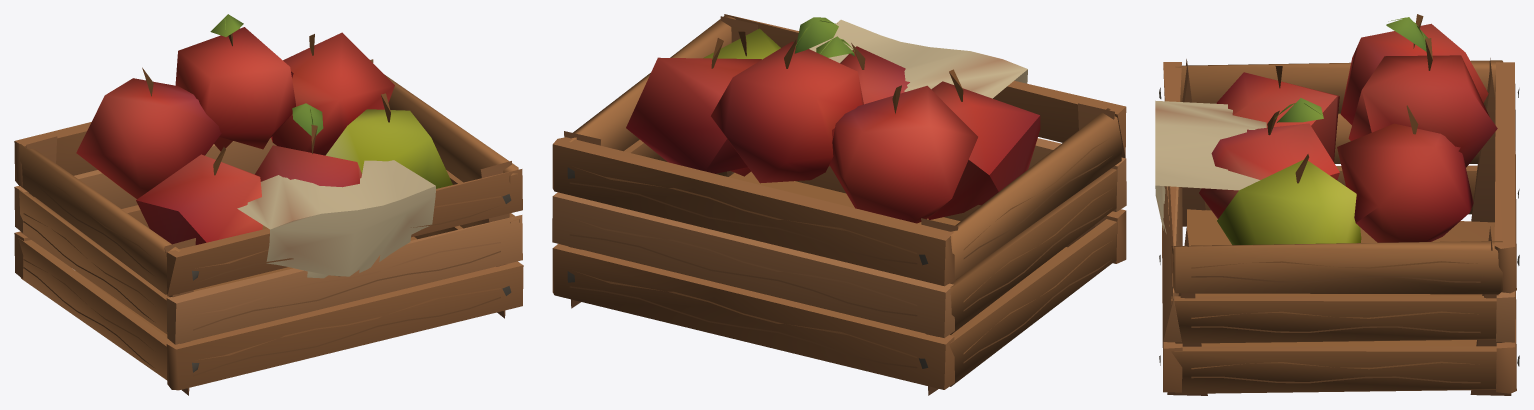
The model's file is apple_crate.glb.
3 views of the same model, side by side, from view 1: azimuth 30°, elevation 25°; view 2: azimuth 150°, elevation 25°; view 3: azimuth 270°, elevation 25° (orthographic). The views are drawn at different scales.
Visible parts, largest first — view 1: Plant; view 2: Plant; view 3: Plant.
Boxes of the visible parts, left/top/right/bottom form: Plant: left=14, top=14, right=523, bottom=395; Plant: left=552, top=14, right=1126, bottom=395; Plant: left=1155, top=14, right=1519, bottom=395.
Bounding box in the file's own units: 0.7034 × 0.501 × 0.5714.
